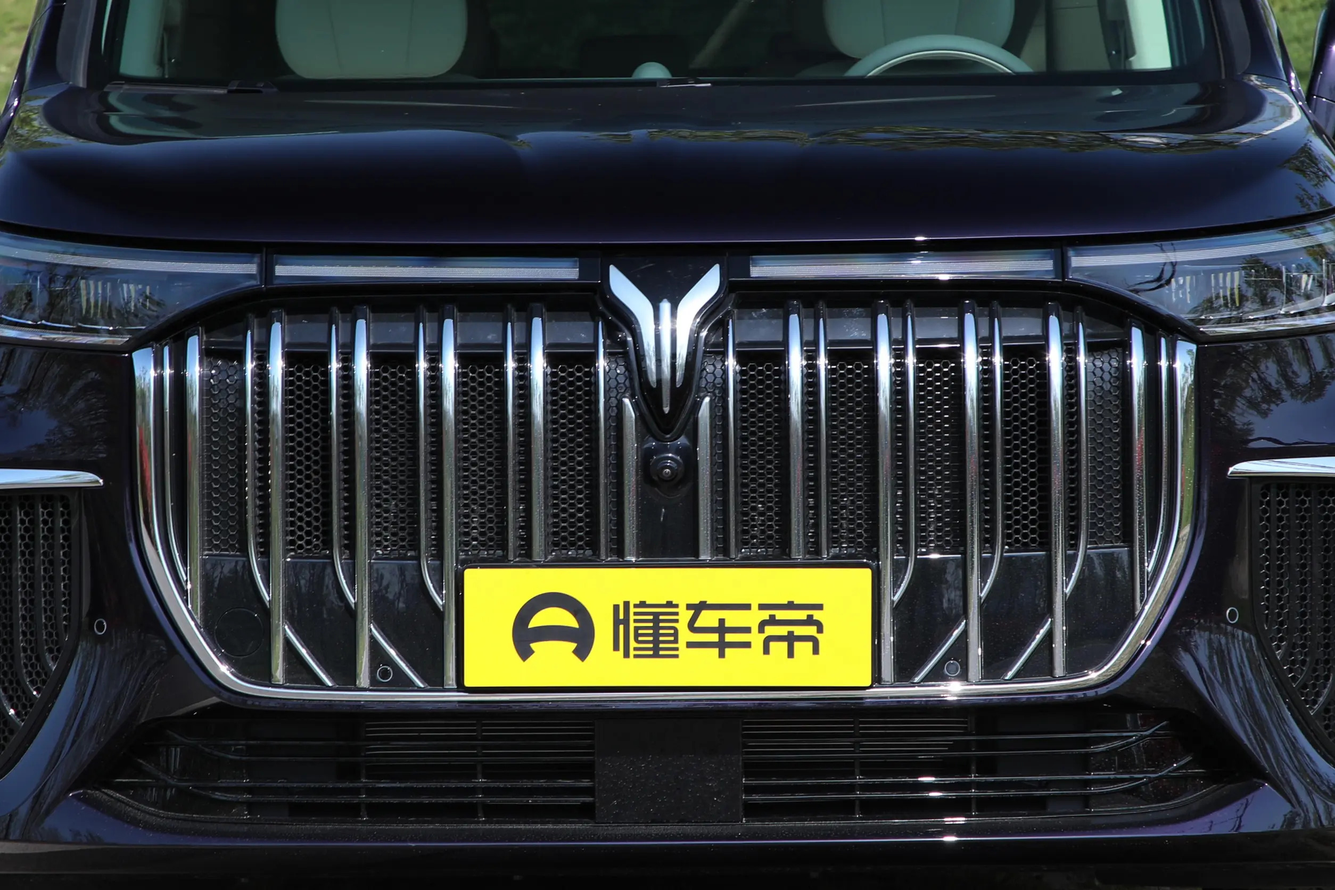VOYAH: (609, 264, 719, 414)
